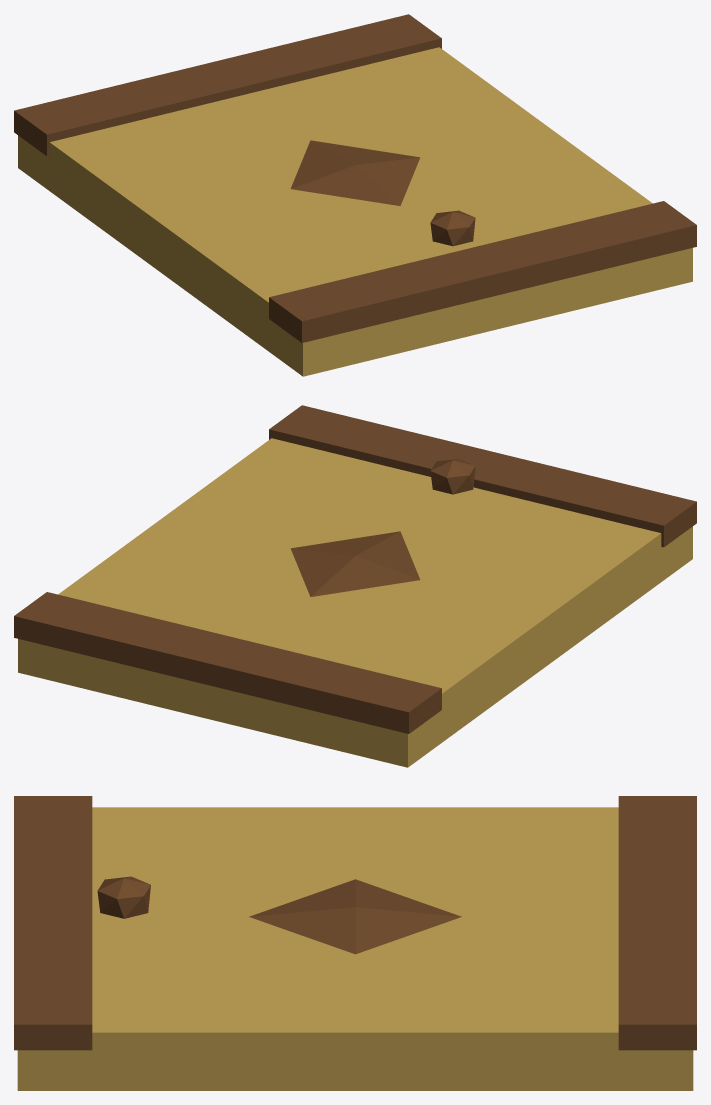
Rendered from drop_cape_crafting.glb.
3 views of the same model, one above another, from view 1: azimuth 30°, elevation 25°; view 2: azimuth 150°, elevation 25°; view 3: azimuth 270°, elevation 25° (orthographic). The views are drawn at different scales.
Visible parts, largest first — view 1: drop_cape_crafting; view 2: drop_cape_crafting; view 3: drop_cape_crafting.
Boxes of the visible parts, x1=… form: drop_cape_crafting: x1=14, y1=14, x2=696, y2=376; drop_cape_crafting: x1=14, y1=405, x2=696, y2=767; drop_cape_crafting: x1=14, y1=796, x2=696, y2=1090.
Size of the model in its own units: 0.304 by 0.062 by 0.384.
